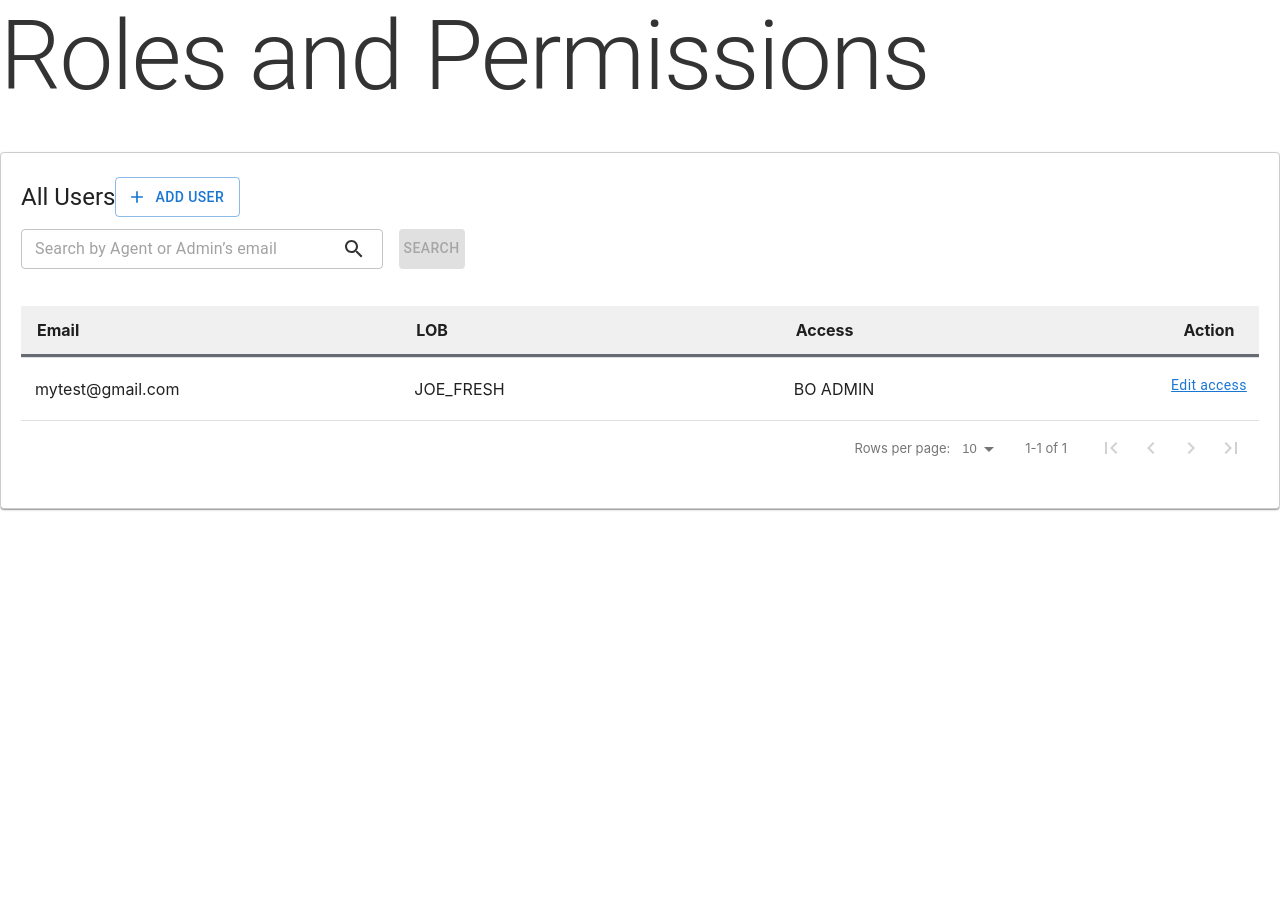
RolesPermissions tests › closes the modal on close icon click
This screenshot has width=1280, height=900.
Click the button "Add user" at (178, 197), box left=116, top=177, right=240, bottom=217
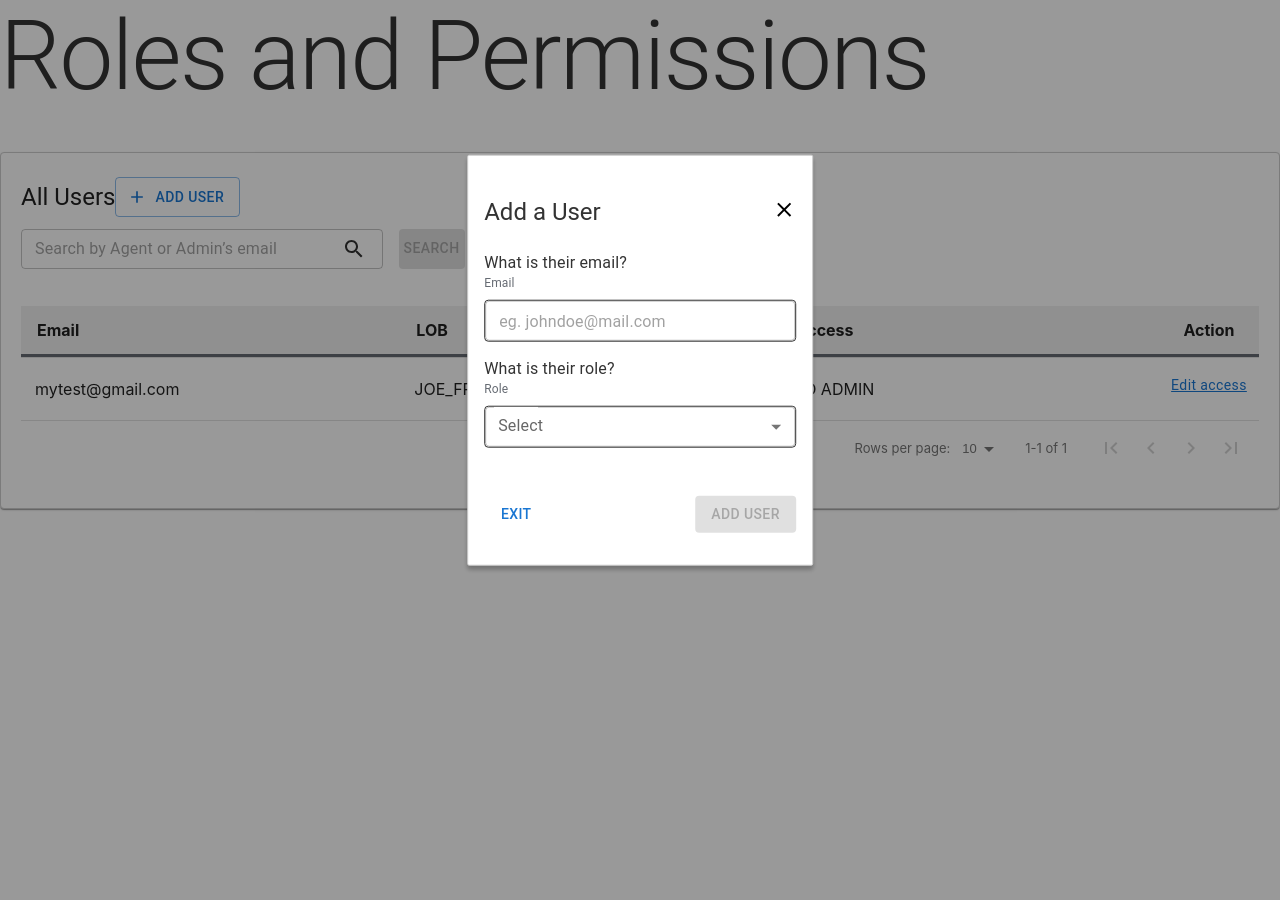
Click the icon with test id "closeIcon" at (784, 210), box left=772, top=198, right=796, bottom=222
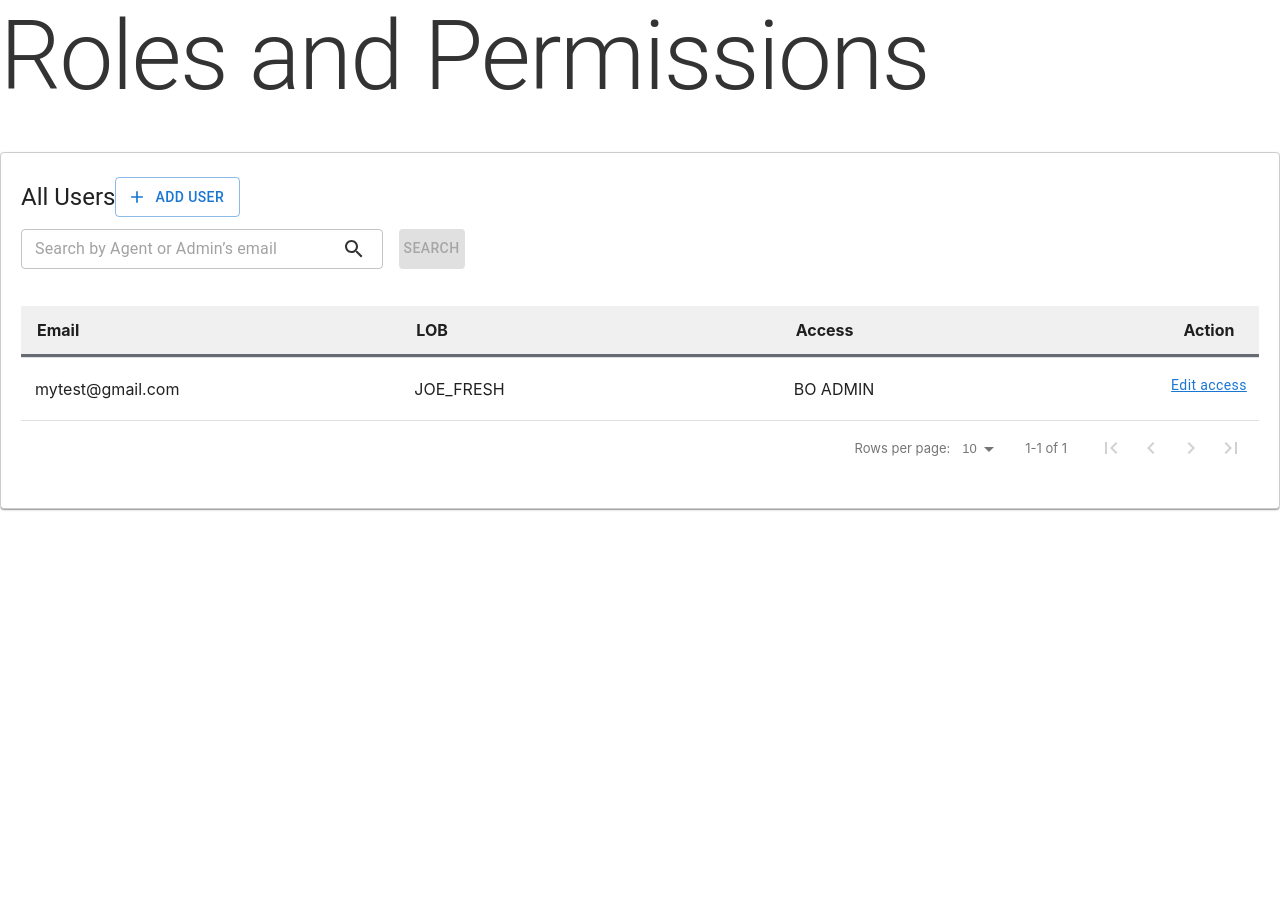
Expected: the element with test id "addUserModal" is gone
